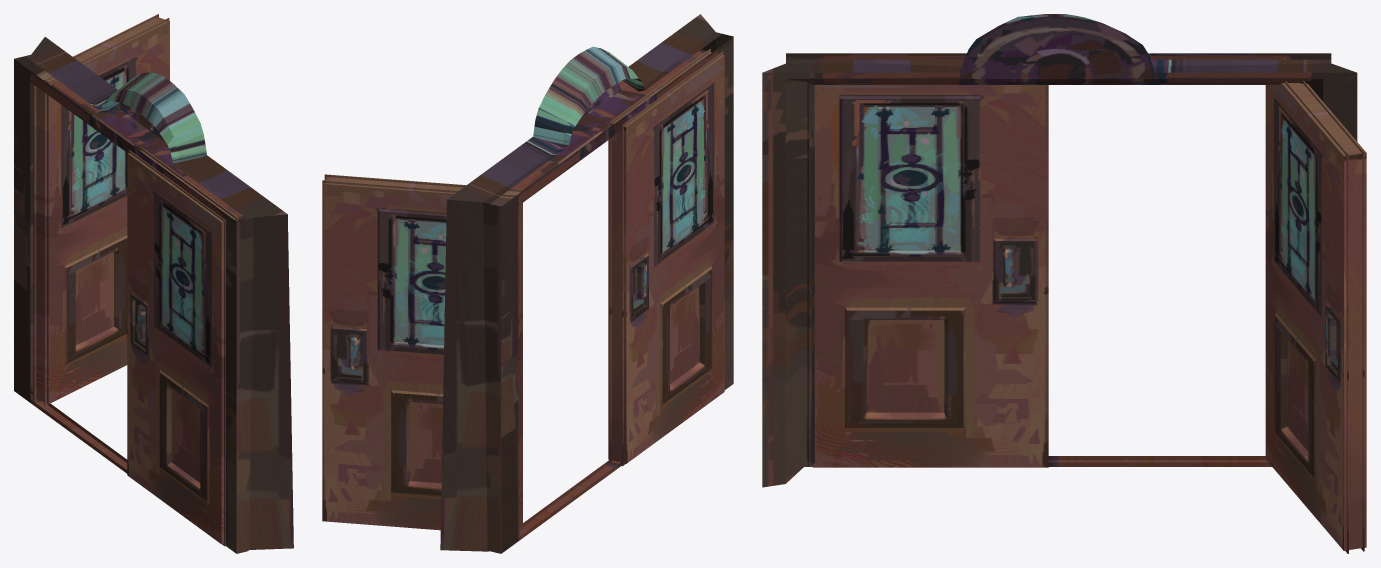
File: two doors.glb
3 views of the same model, side by side, from view 1: azimuth 30°, elevation 25°; view 2: azimuth 150°, elevation 25°; view 3: azimuth 270°, elevation 25° (orthographic). The views are drawn at different scales.
Parts seen in each view (by area): view 1: Cube.018, Cube.010, Cube.019; view 2: Cube.018, Cube.019, Cube.010; view 3: Cube.010, Cube.018, Cube.019.
Boxes of the visible parts, <box> form: Cube.018: <box>14,37,293,553</box>; Cube.010: <box>127,147,238,546</box>; Cube.019: <box>33,14,169,405</box>; Cube.018: <box>440,14,733,553</box>; Cube.019: <box>322,174,522,536</box>; Cube.010: <box>608,49,724,466</box>; Cube.010: <box>812,85,1048,467</box>; Cube.018: <box>762,14,1357,487</box>; Cube.019: <box>1265,58,1366,553</box>.
Bounding box in the file's own units: 1.15 × 2.5 × 2.91.
1 material, 1 textured.
